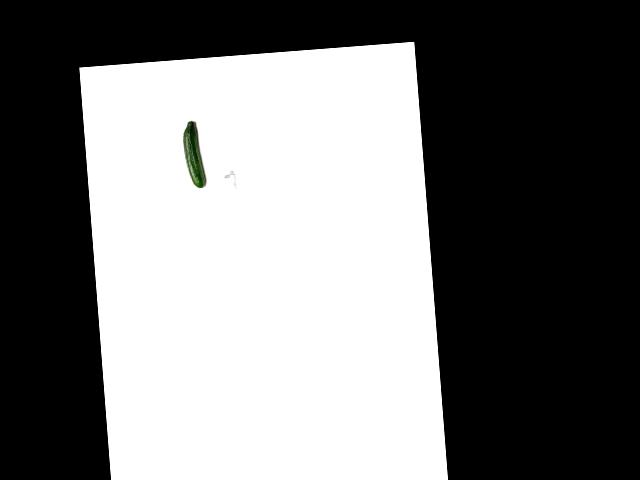cucumber: (182, 120, 206, 189)
